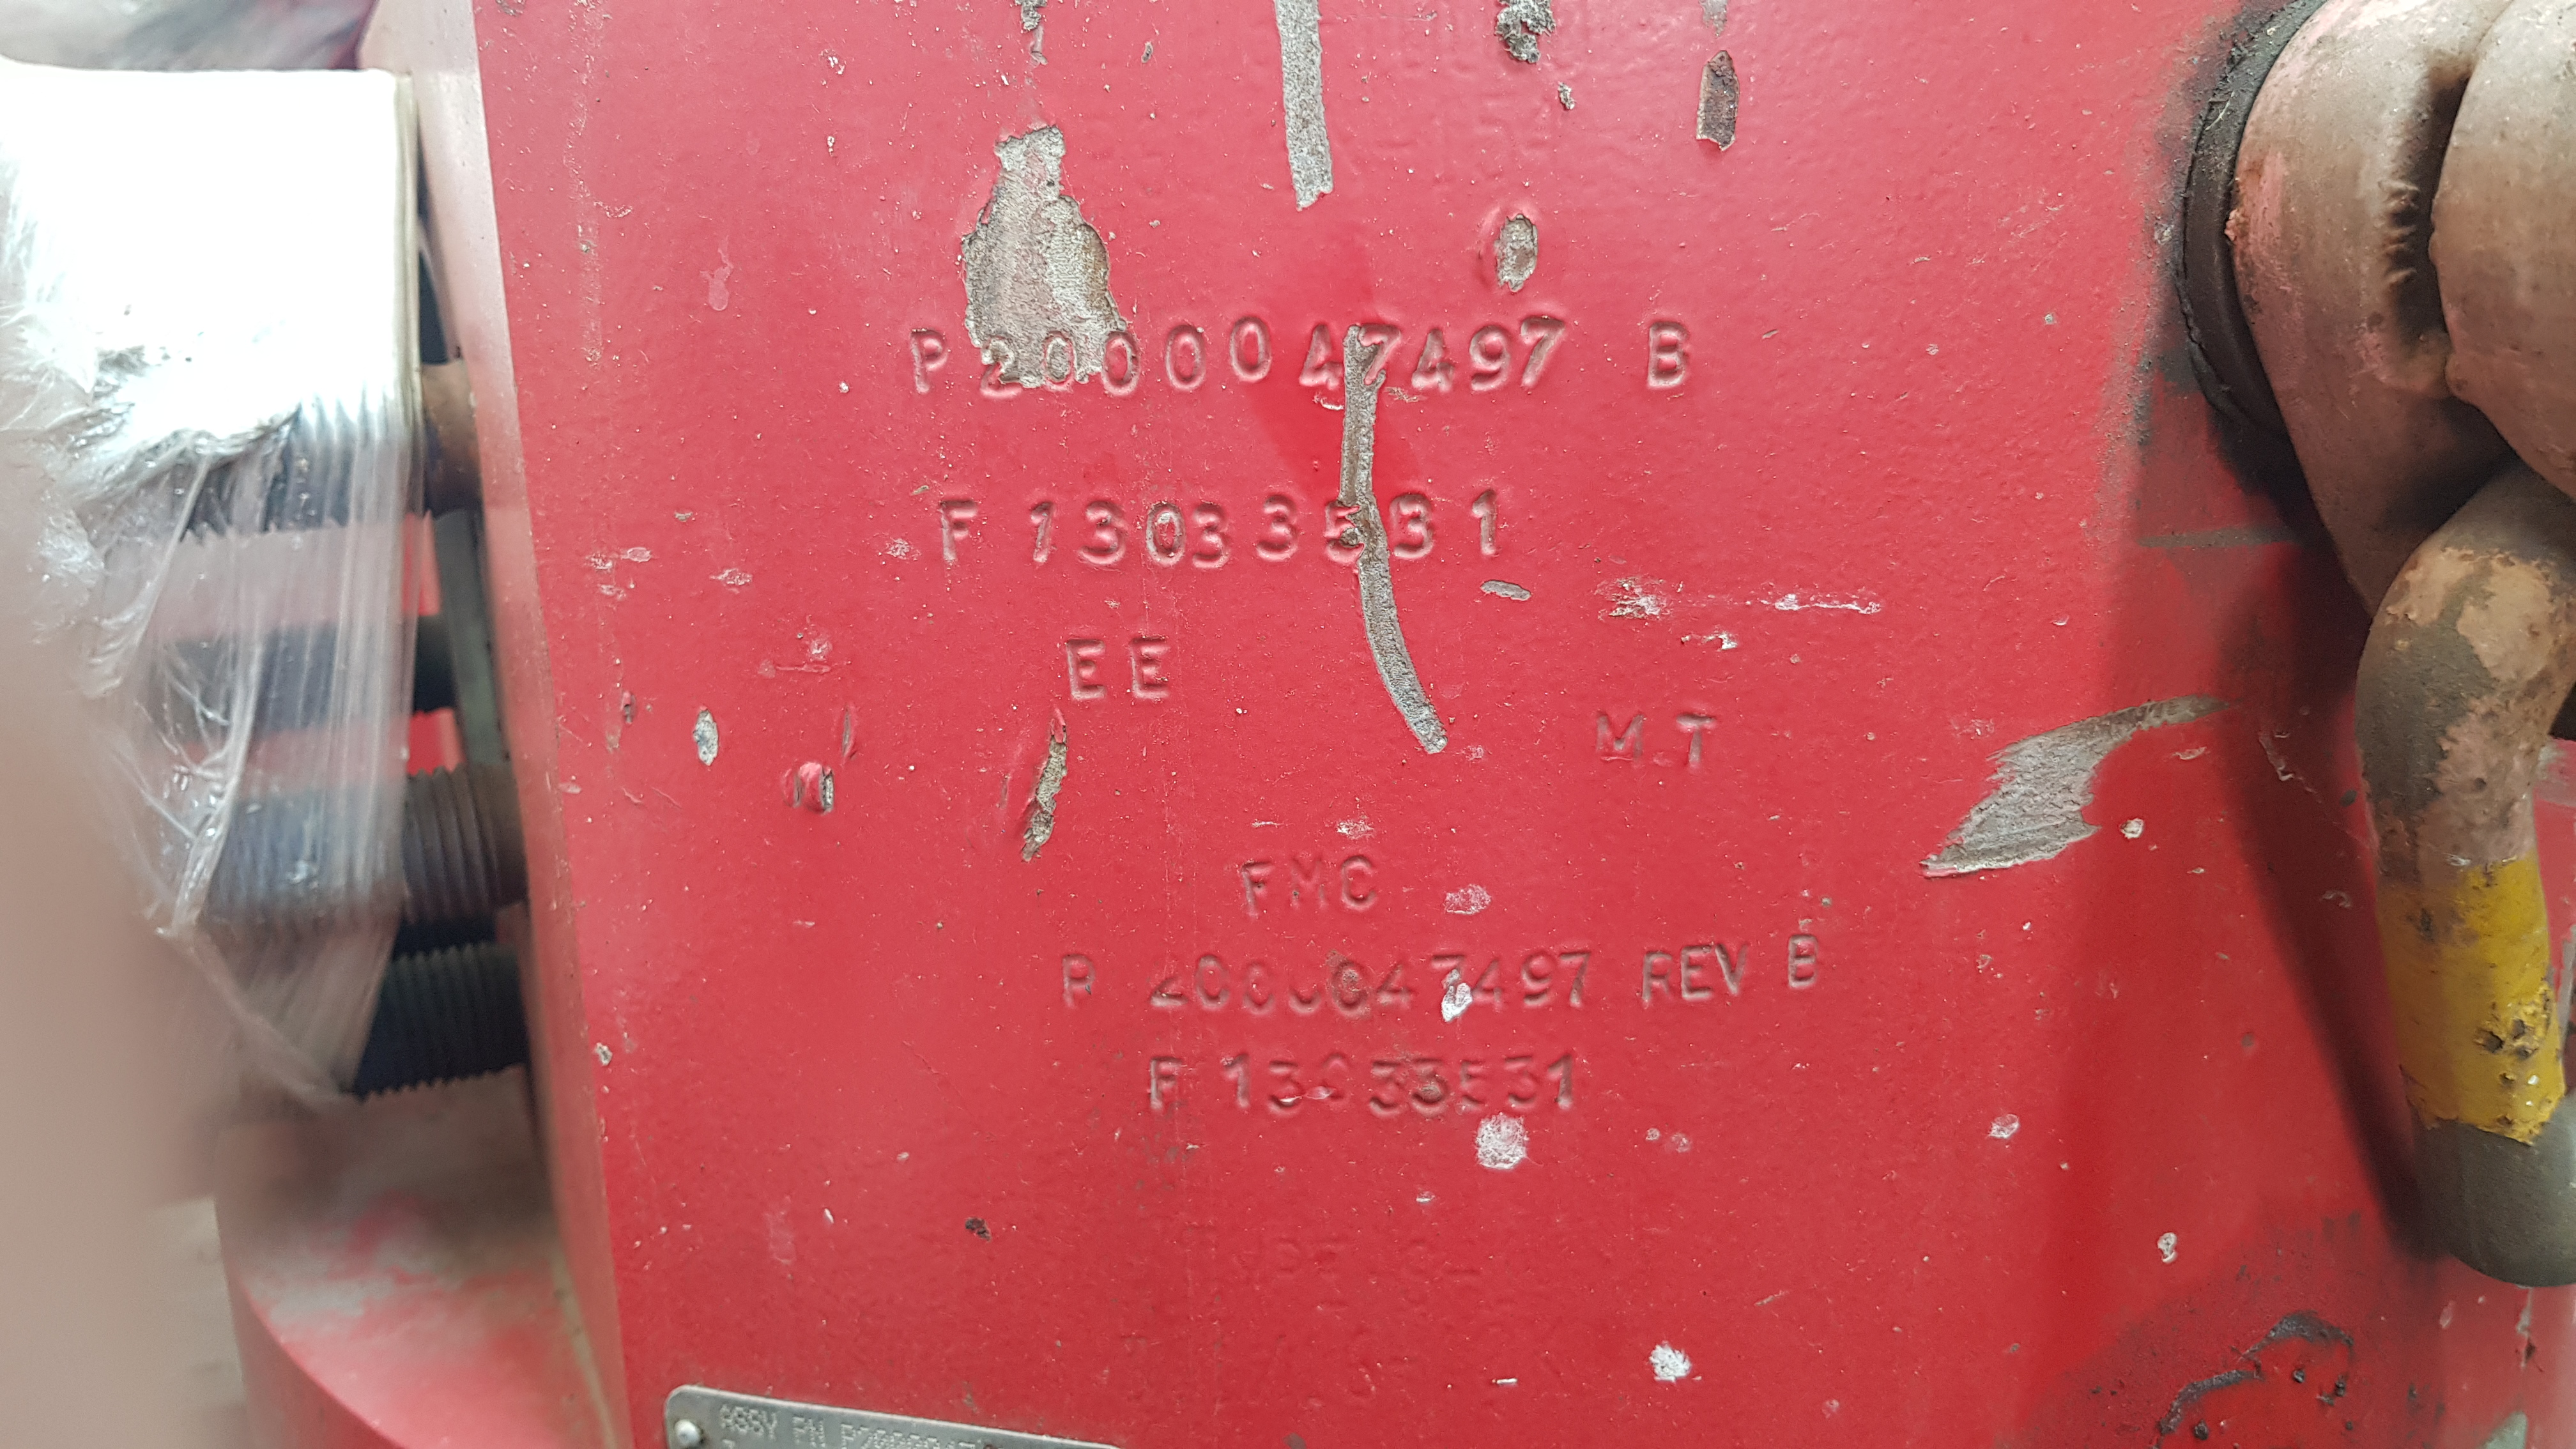character: (897, 311, 957, 407), (1514, 303, 1569, 400), (1056, 625, 1116, 713), (1667, 695, 1723, 789), (977, 327, 1035, 412), (1180, 495, 1240, 577), (1159, 320, 1221, 398), (1127, 623, 1184, 708), (1638, 311, 1698, 391), (1465, 485, 1516, 575), (1382, 488, 1442, 564), (1591, 706, 1651, 780), (1410, 322, 1461, 409), (1297, 315, 1346, 402), (1224, 308, 1279, 384), (934, 492, 987, 570), (1352, 320, 1408, 393), (1465, 322, 1516, 402), (1332, 851, 1387, 920), (1083, 492, 1132, 568), (1139, 499, 1192, 570), (1318, 499, 1371, 570), (1024, 488, 1070, 570), (1228, 849, 1279, 922), (1099, 326, 1148, 400), (1056, 947, 1106, 1021), (1256, 490, 1302, 570), (1428, 943, 1474, 1023), (1401, 1053, 1454, 1120), (1329, 961, 1380, 1028), (1146, 948, 1194, 1019), (1631, 945, 1679, 1014), (1143, 1047, 1191, 1116), (1472, 948, 1516, 1023), (1284, 849, 1336, 913), (1707, 938, 1753, 1008), (1780, 934, 1829, 1000), (1518, 945, 1562, 1017), (1286, 954, 1332, 1023), (1557, 943, 1598, 1021), (1265, 1053, 1309, 1123), (1187, 952, 1235, 1017), (1497, 1053, 1548, 1113), (1035, 329, 1085, 391), (1451, 1051, 1497, 1116), (1545, 1047, 1589, 1115), (1235, 952, 1277, 1021), (1221, 1047, 1260, 1120), (1677, 939, 1716, 1010), (1318, 1053, 1359, 1118), (1378, 959, 1421, 1019), (1368, 1056, 1407, 1122)
